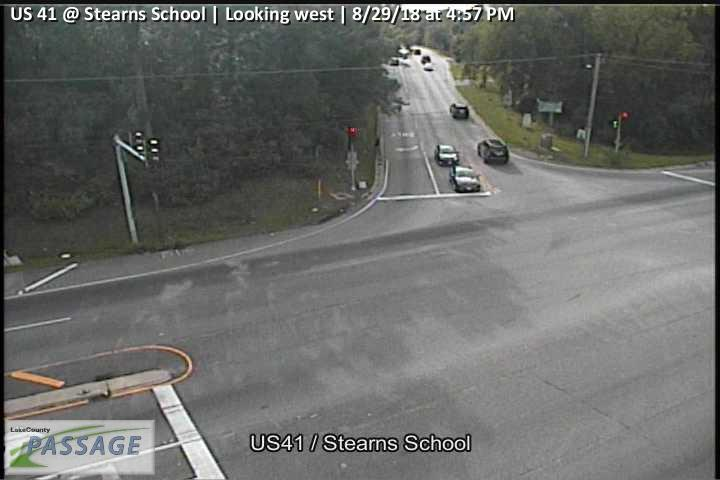SUV: (449, 163, 482, 194), (477, 139, 510, 167), (434, 143, 458, 166), (449, 101, 470, 121), (420, 53, 432, 65)
Sedan: (423, 62, 433, 70)
